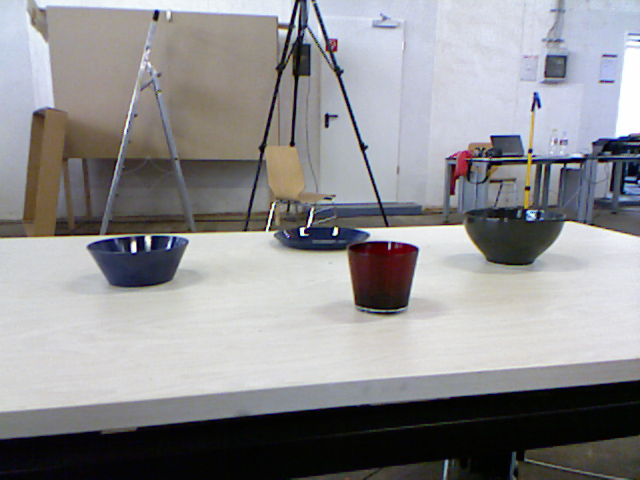bowl_bigger: (463, 207, 566, 266)
bowl_smaller: (86, 234, 190, 288)
chair: (264, 146, 339, 233)
cup: (347, 241, 420, 314)
laptop: (490, 135, 527, 157)
